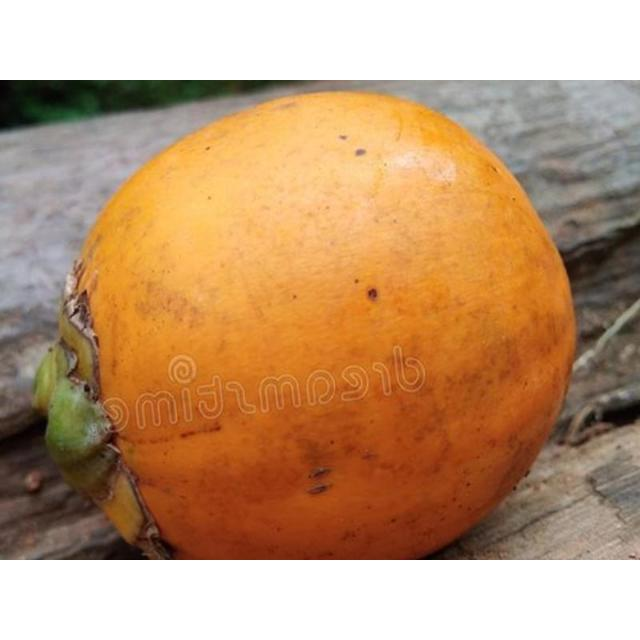good: (31, 90, 578, 559)
